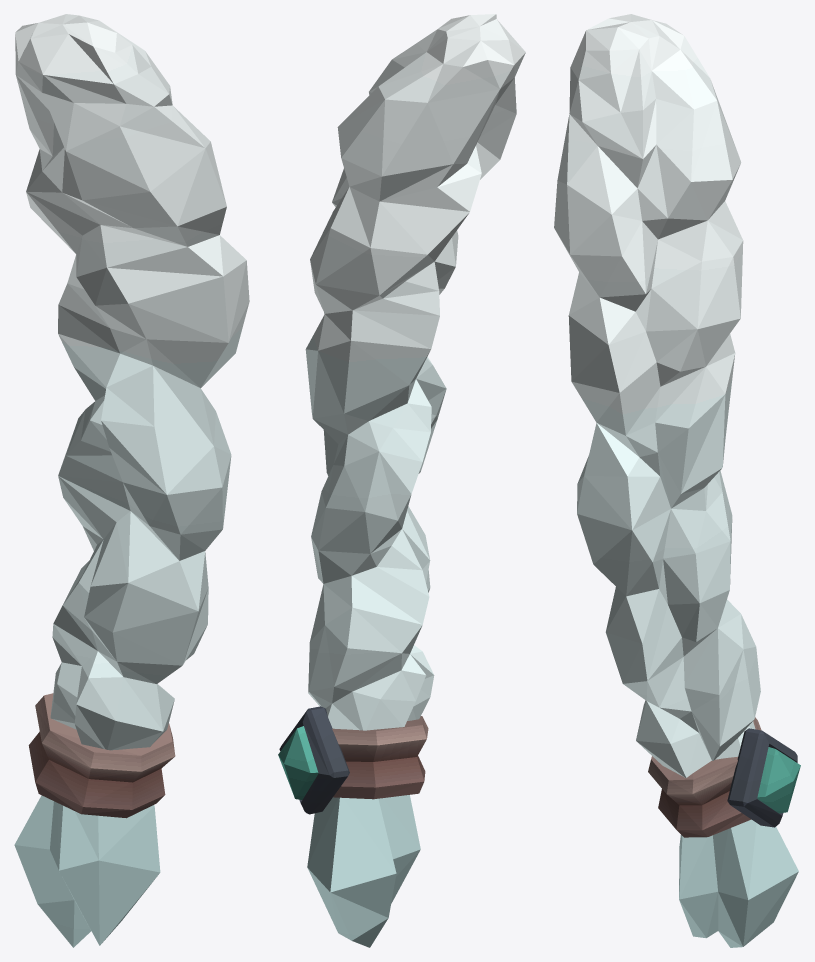
Rendered from CharSkyKid_Horn_AP13Braids_01.glb.
3 views of the same model, side by side, from view 1: azimuth 30°, elevation 25°; view 2: azimuth 150°, elevation 25°; view 3: azimuth 270°, elevation 25° (orthographic). The views are drawn at different scales.
Parts seen in each view (by area): view 1: CharSkyKid_Horn_AP13Braids_01; view 2: CharSkyKid_Horn_AP13Braids_01; view 3: CharSkyKid_Horn_AP13Braids_01.
Part boxes in pixels (x1,y1,x2,y2): CharSkyKid_Horn_AP13Braids_01: [14, 14, 249, 947]; CharSkyKid_Horn_AP13Braids_01: [278, 14, 525, 947]; CharSkyKid_Horn_AP13Braids_01: [554, 14, 800, 947].
Bounding box in the file's own units: 0.7211 × 3.05 × 0.7596.
1 material, 1 textured.
